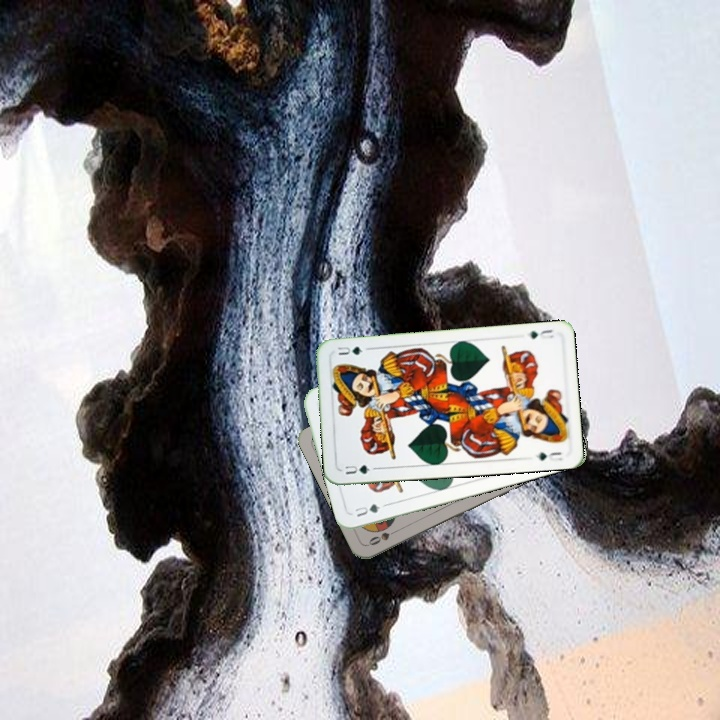GU: (351, 500, 383, 520), (341, 460, 373, 477), (522, 326, 556, 342)
SO: (364, 524, 402, 548)
